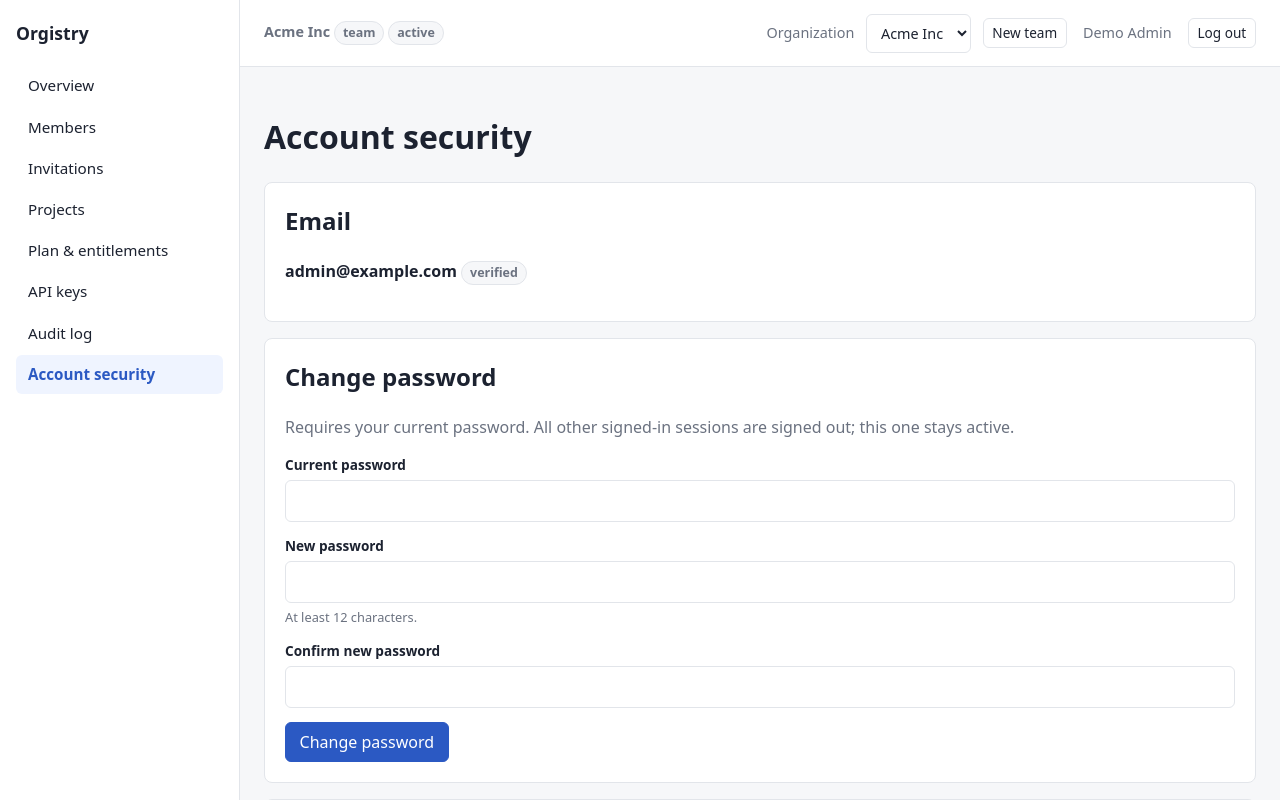
Test case: change password › shows the incorrect-current-password error without logging the user out
The width and height of the screenshot is (1280, 800).
Expected: the heading "Account security" is shown, [264,115,532,158]
Step 1. Type "wrong-password-000" into the password field labelled "Current password" → (760,501), box [285,480,1235,522]
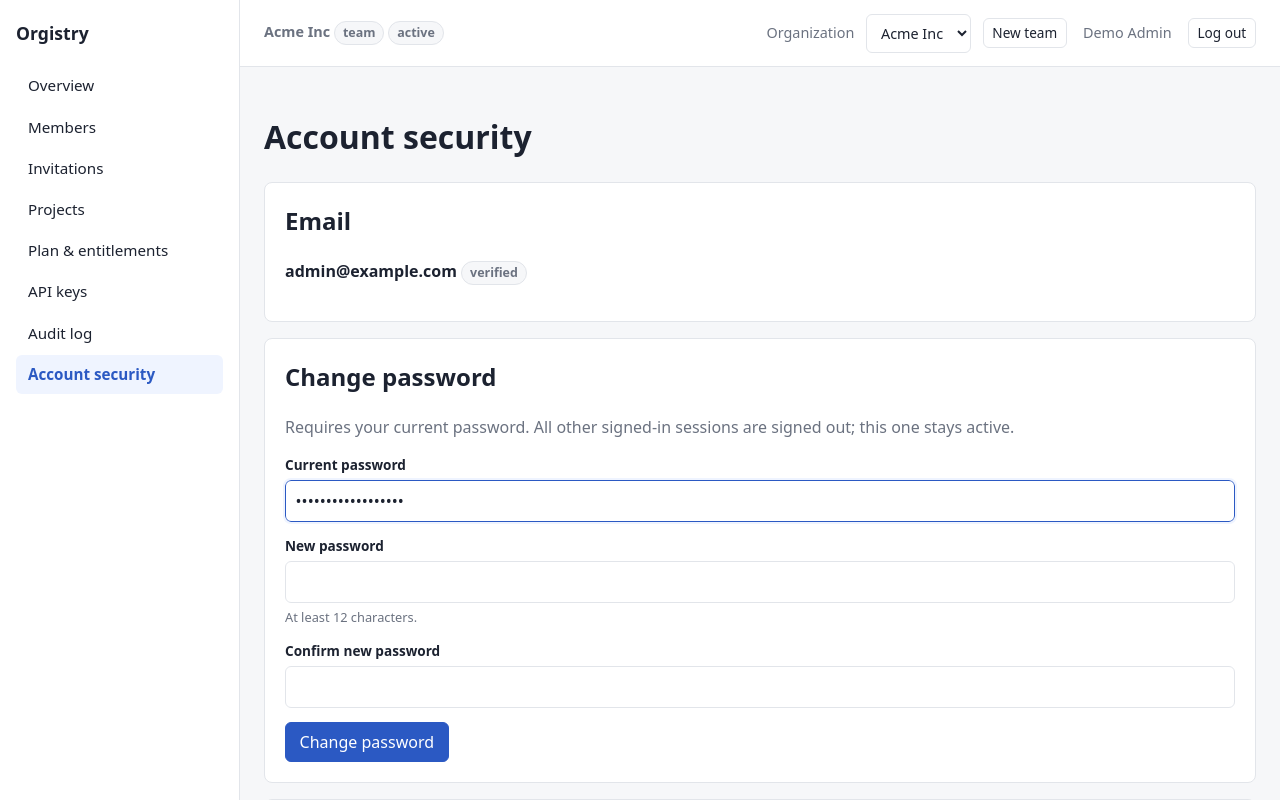
Step 2. Type "rotated-password-456" into the password field labelled "New password" → (760,582), box [285,561,1235,603]
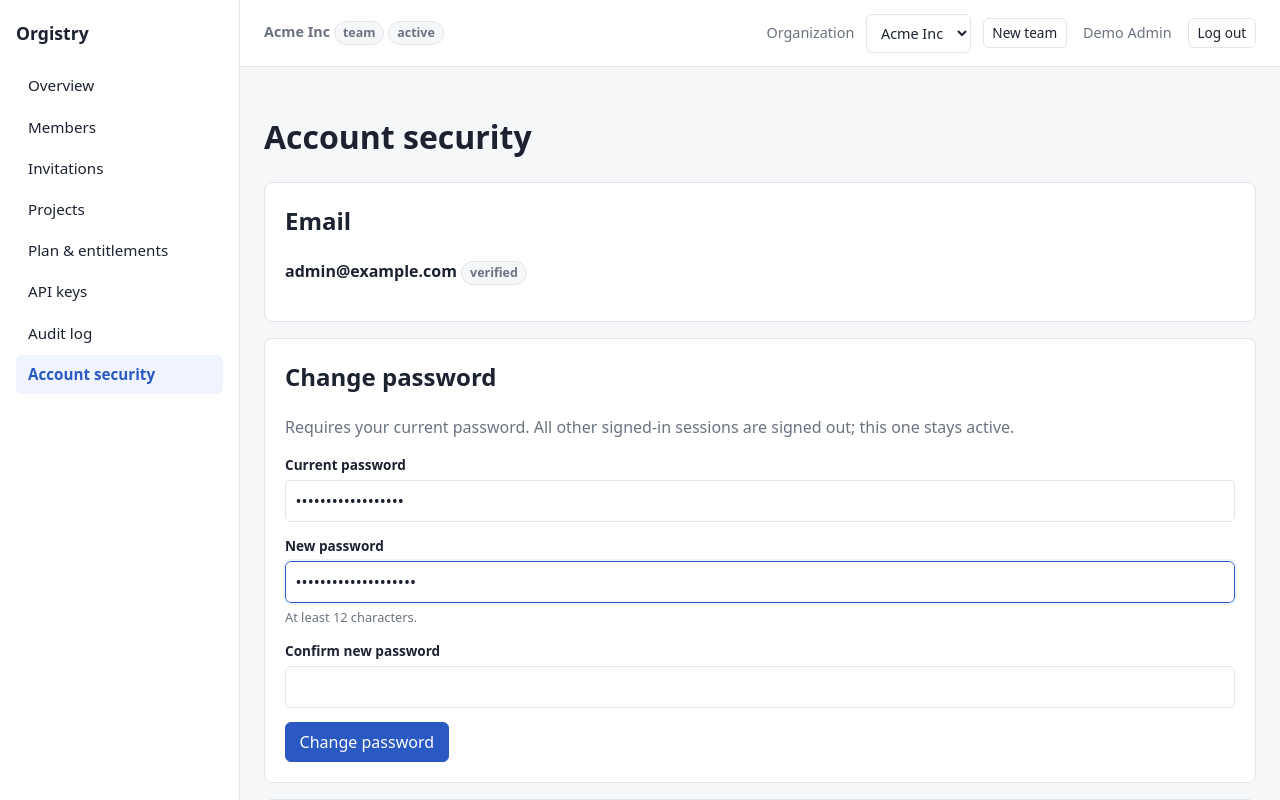
Step 3. Type "rotated-password-456" into the password field labelled "Confirm new password" → (760,687), box [285,666,1235,708]
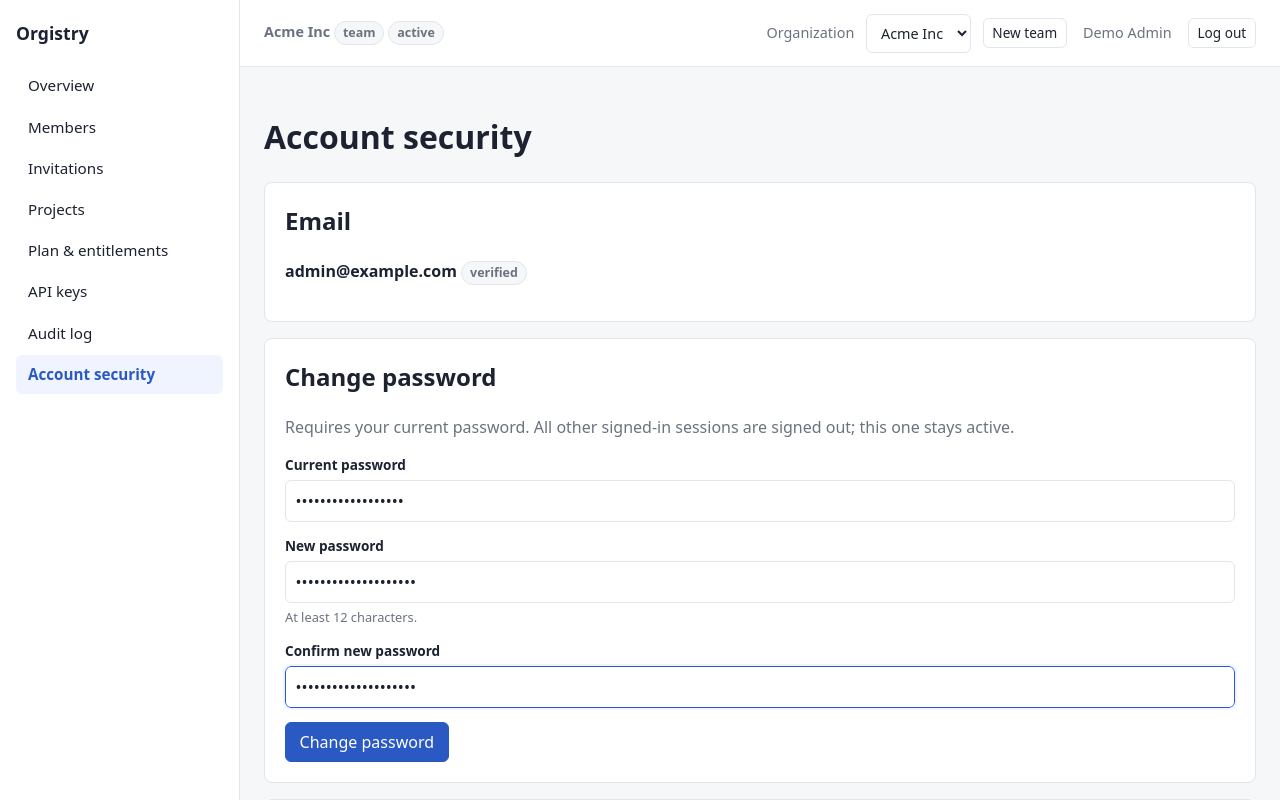
Step 4. Click the button "Change password" → (367,742), box [285,722,449,762]
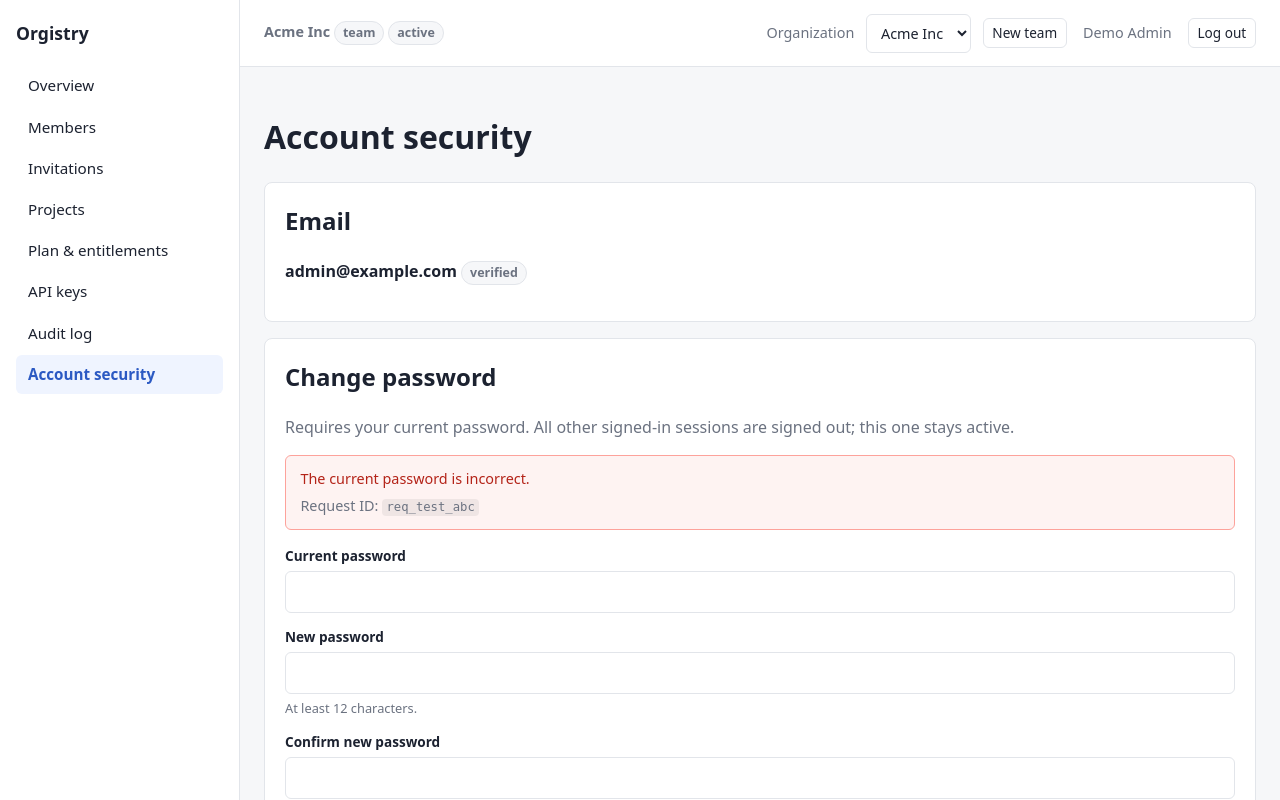
Expected: the heading "Account security" is shown, [264,115,532,158]
Expected: the text "The current password is incorrect." is shown, [300,469,530,488]
